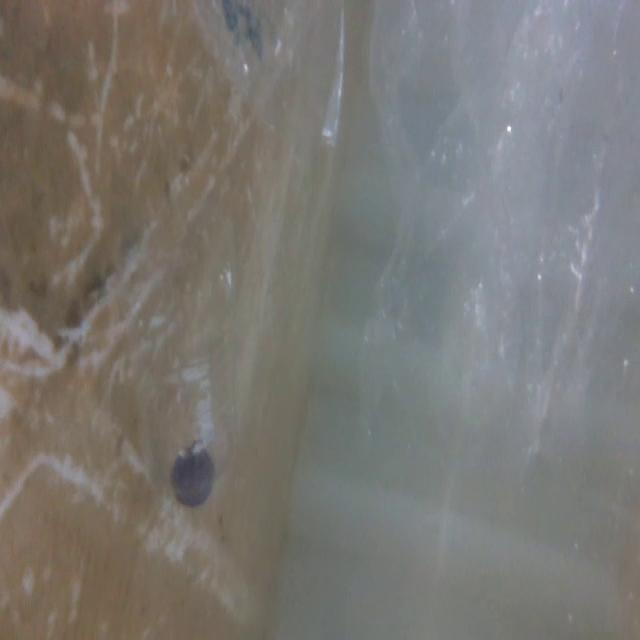plastic bags: (362, 1, 639, 490), (182, 0, 353, 161)
plastic bottle: (110, 150, 256, 566)
